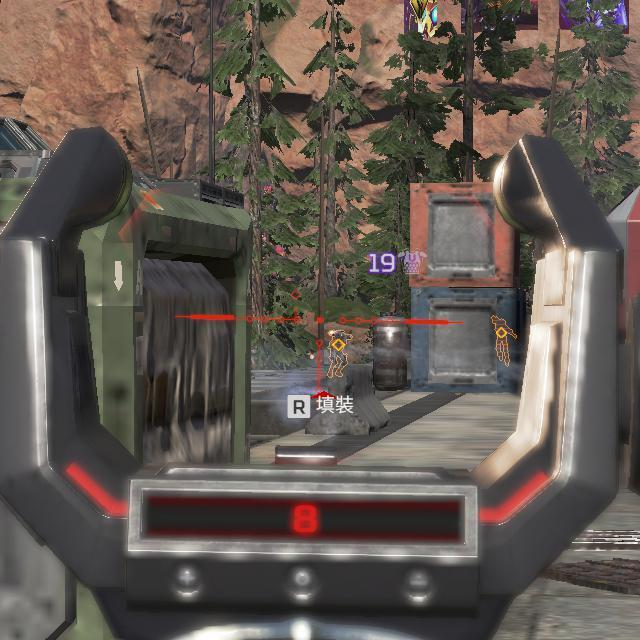avatar: (490, 314, 518, 368), (326, 328, 352, 379)
object: (330, 336, 347, 354), (495, 326, 509, 340)
